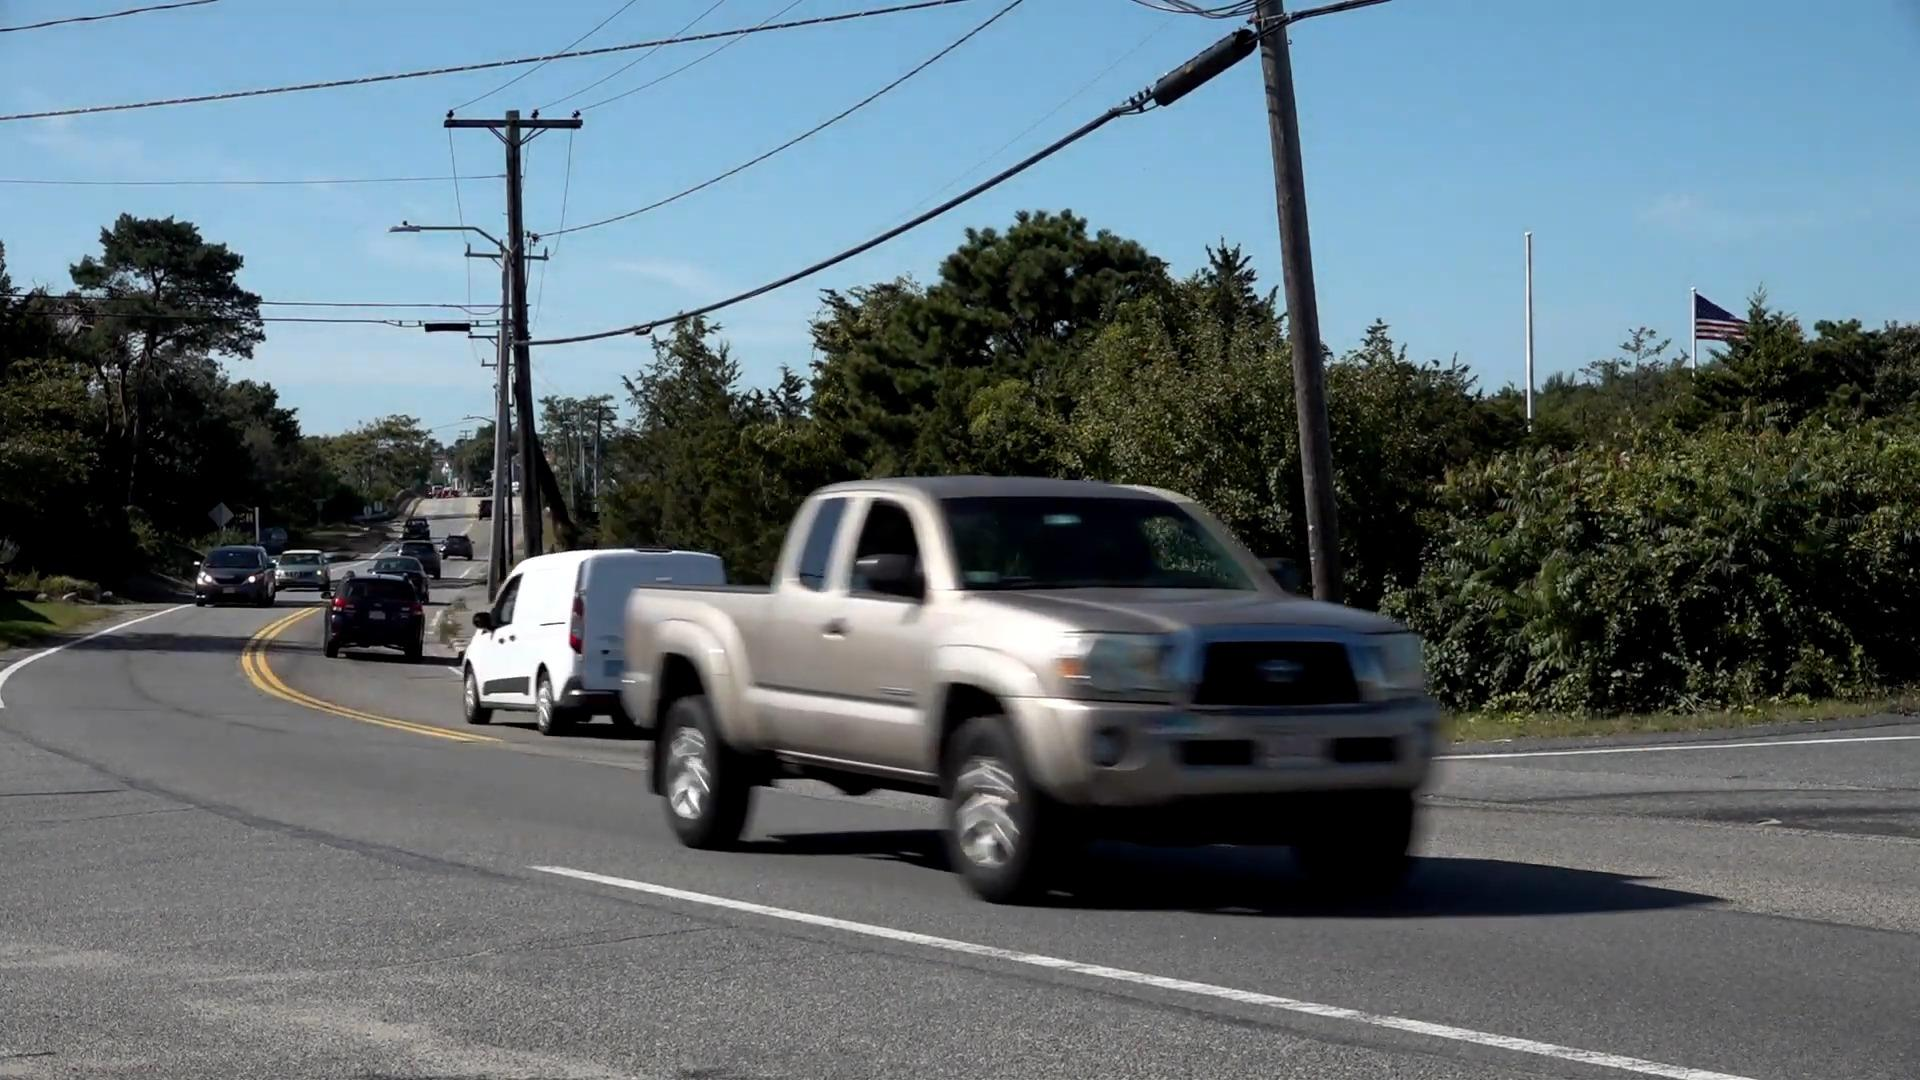minivan: (461, 553, 623, 729), (191, 543, 276, 606)
pickup: (627, 477, 1447, 911)
suv: (329, 570, 430, 660)
